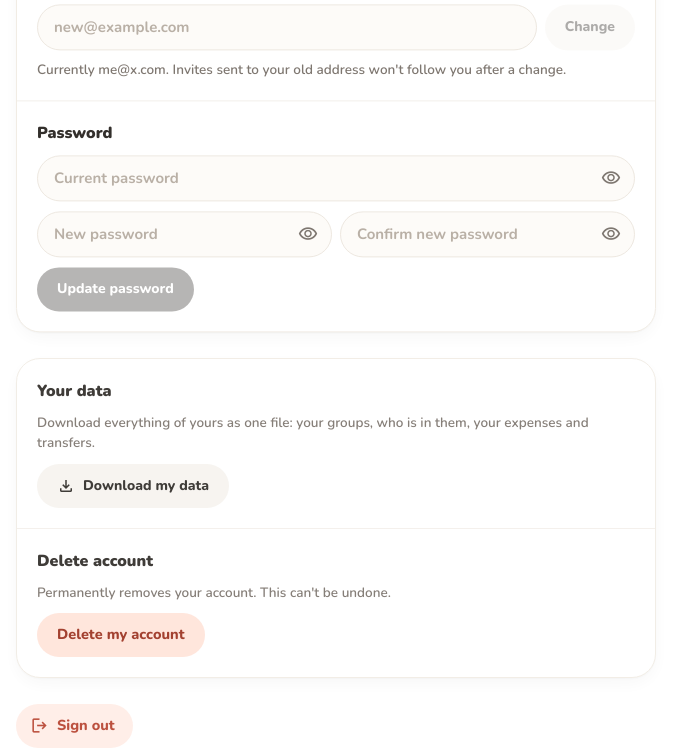
Test case: Account › downloads your data as a file
(page scrolled)
What coordinates should you click on to do the following:
click the button "Download my data"
I would click on:
 (133, 486)
Its box is [37,464,229,508].
(page scrolled)
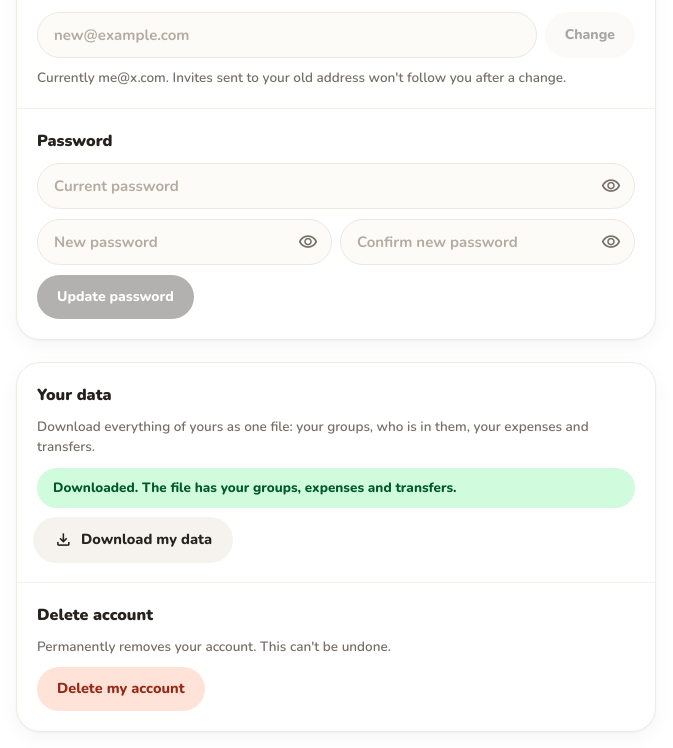
Now the text "Downloaded" is shown, box [53,478,457,496]
